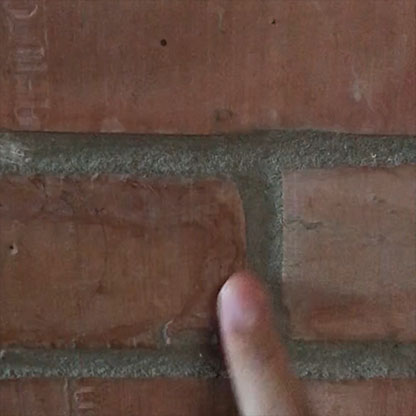fingertip: (206, 272, 288, 345)
